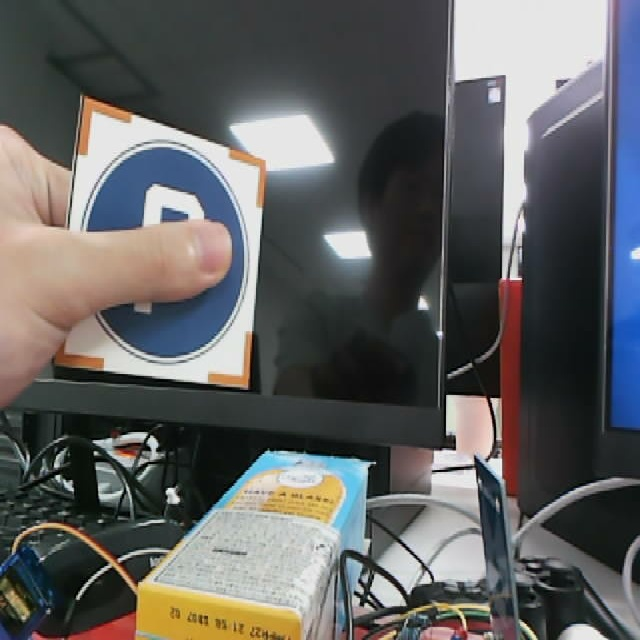parking: (52, 94, 267, 390)
